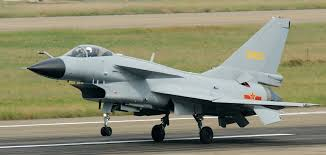fighter: (25, 13, 320, 141)
